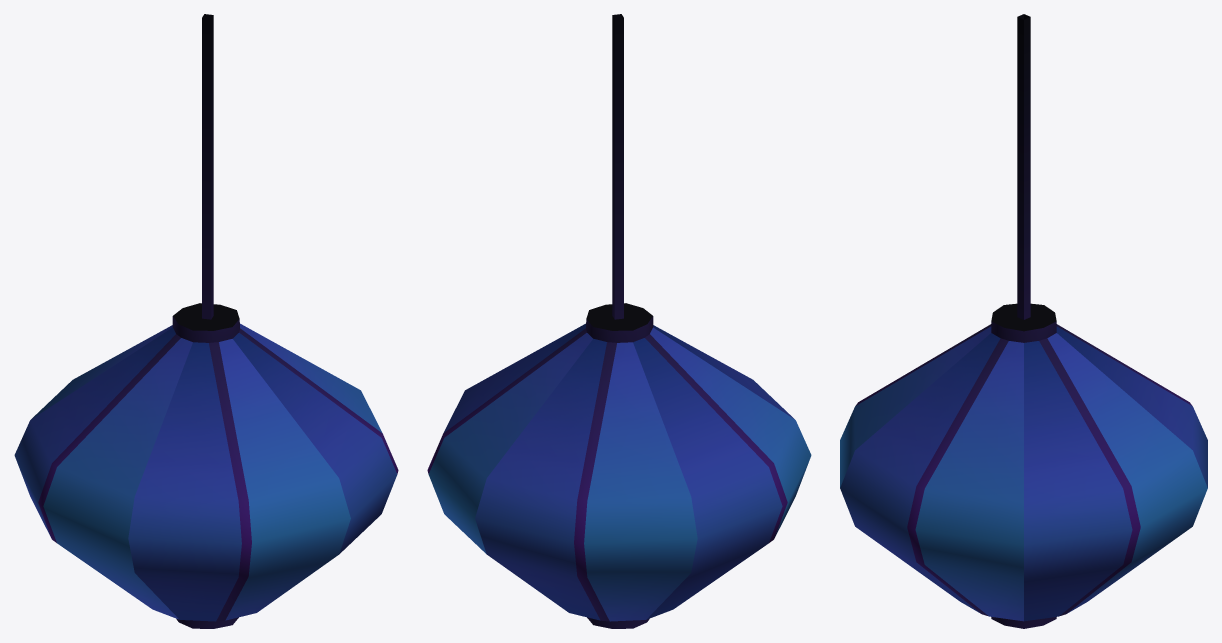
Rendered from Lantern_D_03.FBX.
The picture shows the model from 3 angles, left to right: view 1: azimuth 30°, elevation 25°; view 2: azimuth 150°, elevation 25°; view 3: azimuth 270°, elevation 25°; orthographic projection.
Parts seen in each view (by area): view 1: Lantern_D_03Light, Lantern_D_03; view 2: Lantern_D_03Light, Lantern_D_03; view 3: Lantern_D_03Light, Lantern_D_03.
Boxes of the visible parts, x1,y1,x2,y2 form: Lantern_D_03Light: [14, 323, 398, 621]; Lantern_D_03: [172, 14, 239, 628]; Lantern_D_03Light: [427, 323, 811, 621]; Lantern_D_03: [586, 14, 653, 628]; Lantern_D_03Light: [840, 324, 1207, 621]; Lantern_D_03: [991, 14, 1056, 628].
Bounding box in the file's own units: 57.23 × 98.04 × 54.66.
Materials: 1 (1 with a texture image).
